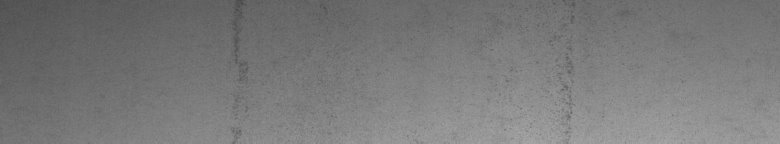ib: (496, 4, 630, 128)
